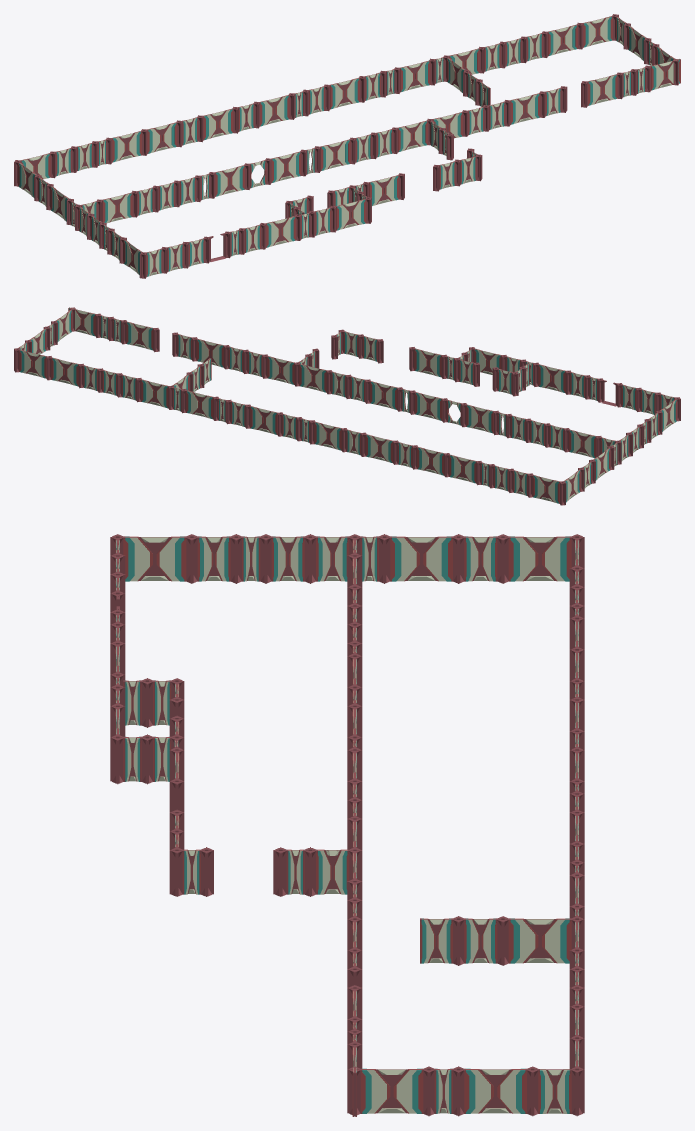
Rendered from level2n.fbx.
3 views of the same model, one above another, from view 1: azimuth 30°, elevation 25°; view 2: azimuth 150°, elevation 25°; view 3: azimuth 270°, elevation 25° (orthographic). The views are drawn at different scales.
Parts seen in each view (by area): view 1: Level2; view 2: Level2; view 3: Level2.
Boxes of the visible parts, <box> form: Level2: <box>14,14,680,278</box>; Level2: <box>14,307,680,505</box>; Level2: <box>110,534,584,1116</box>.
Size of the model in its own units: 17216 by 650 by 6397.
